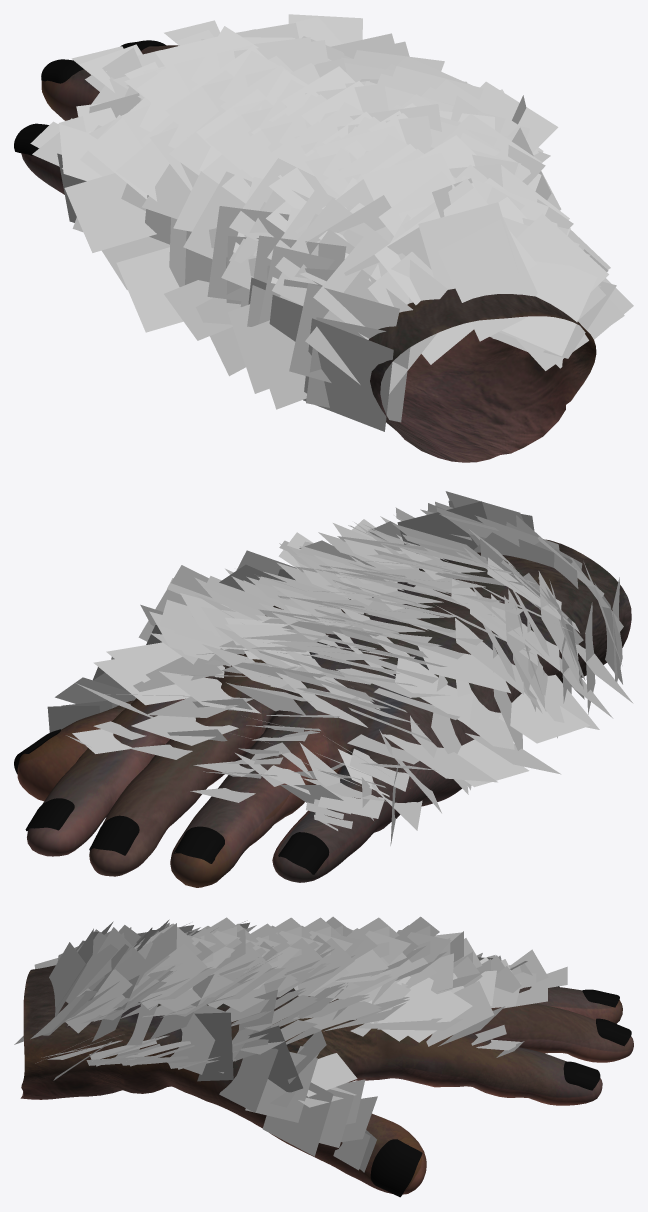
Rendered from 猩猩手_02.FBX.
The picture shows the model from 3 angles, top to bottom: view 1: azimuth 30°, elevation 25°; view 2: azimuth 150°, elevation 25°; view 3: azimuth 270°, elevation 25°; orthographic projection. The views are drawn at different scales.
Visible parts, largest first — view 1: shou, Plane160, Plane255, Plane169, Plane264, Plane262, Plane177, Plane244, Plane161, Plane258, Plane170, Plane129 (+75 smaller); view 2: shou, Plane261, Plane069, Plane068, Plane174, Plane264, Plane198, Plane236, Plane280, Plane263, OBJ_02, Plane277 (+61 smaller); view 3: shou, Plane285, OBJ_05, Plane225, Plane224, Plane197, Plane284, Plane106, Plane132, Plane288, Plane226, Plane160 (+51 smaller).
Boxes of the visible parts, x1,y1,x2,y2 form: shou: [21, 45, 596, 462]; Plane160: [438, 218, 537, 341]; Plane255: [303, 318, 393, 431]; Plane169: [502, 261, 597, 356]; Plane264: [64, 173, 156, 252]; Plane262: [116, 247, 183, 332]; Plane177: [313, 228, 447, 339]; Plane244: [289, 283, 399, 382]; Plane161: [418, 202, 525, 294]; Plane258: [249, 320, 306, 409]; Plane170: [516, 213, 608, 291]; Plane129: [362, 152, 455, 207]; shou: [17, 539, 631, 887]; Plane261: [499, 692, 589, 743]; Plane069: [395, 651, 473, 725]; Plane068: [418, 646, 510, 693]; Plane174: [397, 501, 486, 553]; Plane264: [381, 734, 497, 782]; Plane198: [106, 642, 182, 694]; Plane236: [453, 658, 514, 749]; Plane280: [131, 715, 238, 745]; Plane263: [457, 739, 529, 787]; OBJ_02: [278, 832, 329, 874]; Plane277: [159, 671, 260, 713]; shou: [20, 965, 633, 1194]; Plane285: [262, 1082, 333, 1156]; OBJ_05: [370, 1139, 422, 1197]; Plane225: [219, 1048, 278, 1112]; Plane224: [194, 1012, 233, 1081]; Plane197: [368, 976, 452, 1041]; Plane284: [245, 1051, 317, 1122]; Plane106: [166, 1005, 225, 1074]; Plane132: [140, 944, 207, 1010]; Plane288: [426, 981, 494, 1046]; Plane226: [248, 1025, 302, 1092]; Plane160: [49, 942, 86, 1016].
Bounding box in the file's own units: 17.01 × 8.15 × 26.07.
